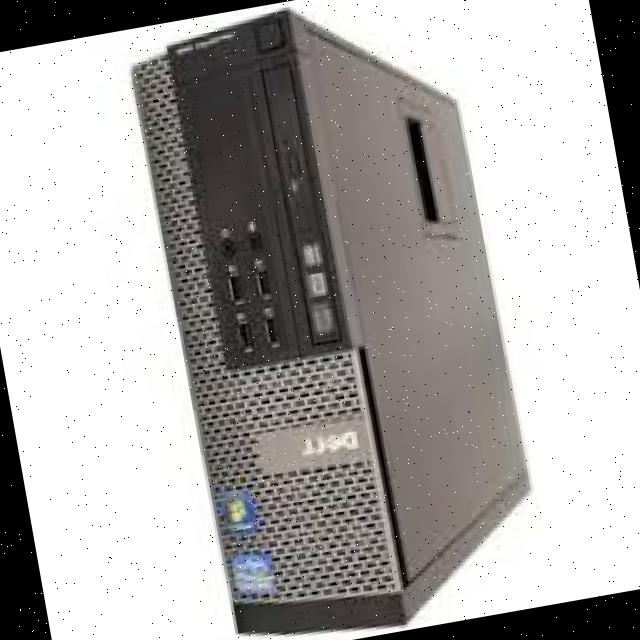Computer: (112, 0, 590, 640)
